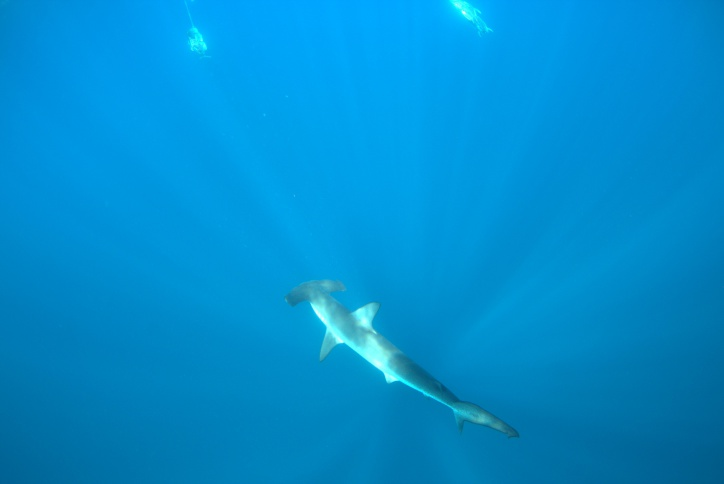Hammer: (268, 257, 546, 454)
